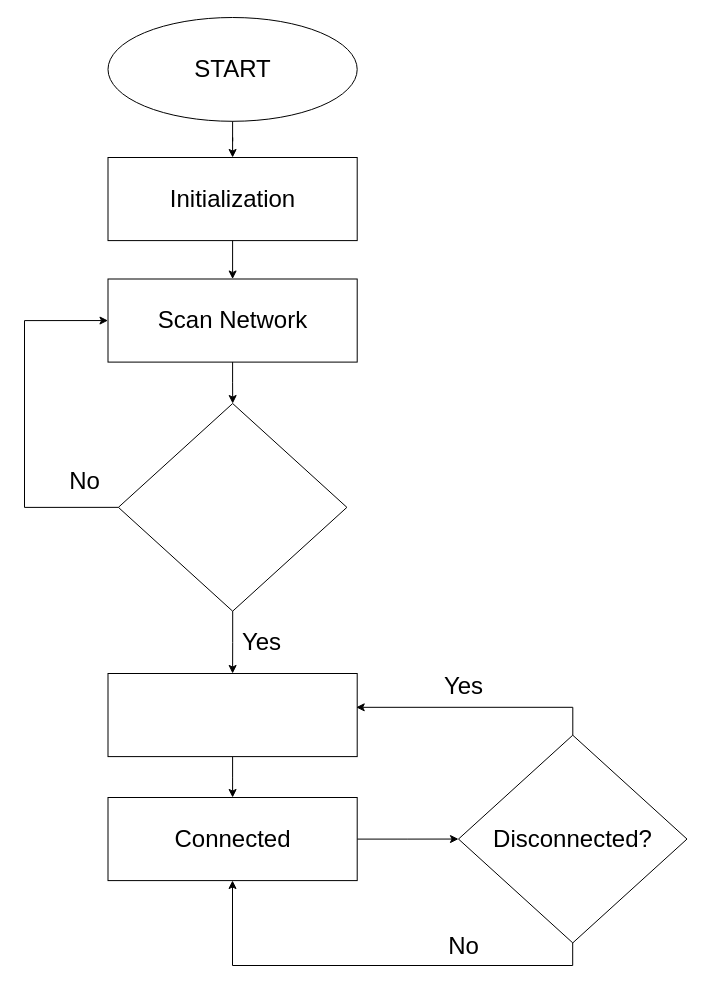
Some shapes in this 705 by 995 pixel diagram are drawn without their labels. The centre of each missing label's shape, as x and y in pixels:
"Connecting" belongs at point (232, 714).
"Known Network?" belongs at point (232, 506).
